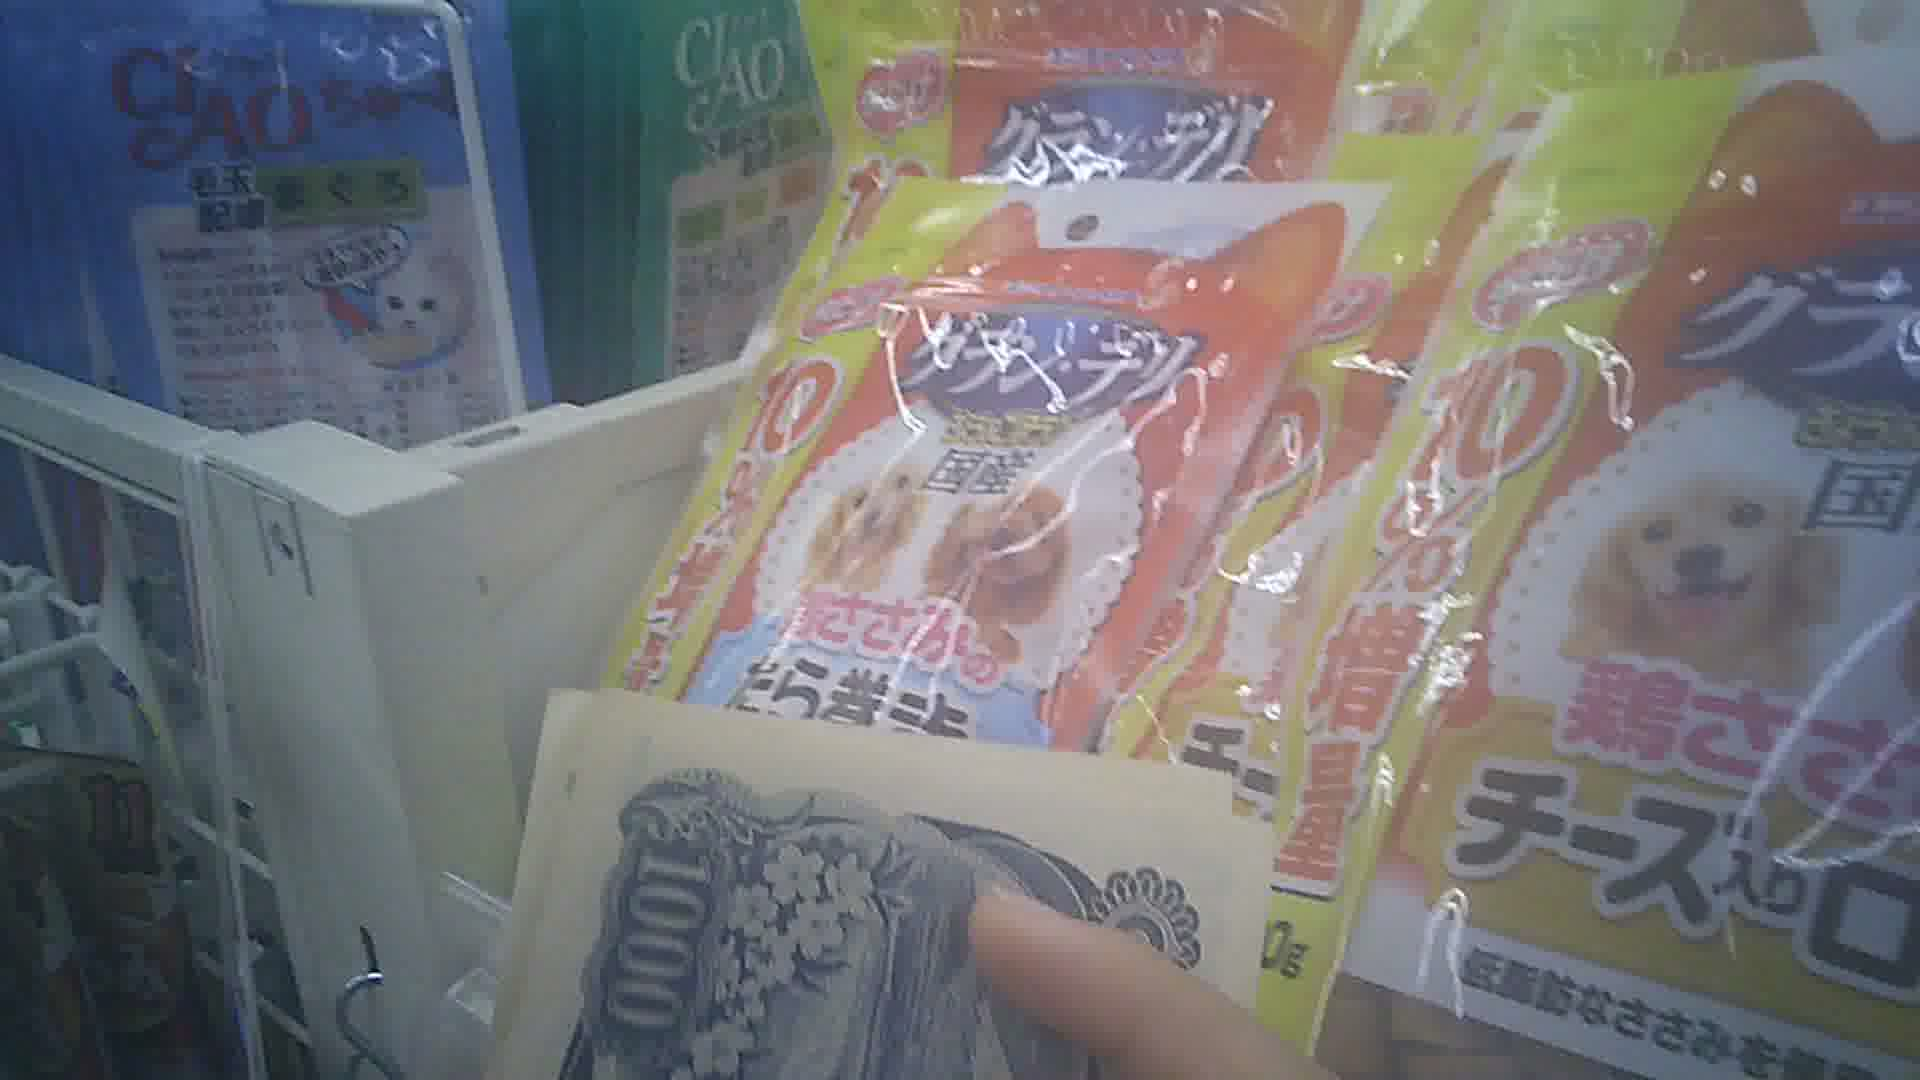1,000 Yen: (491, 678, 1225, 1075)
